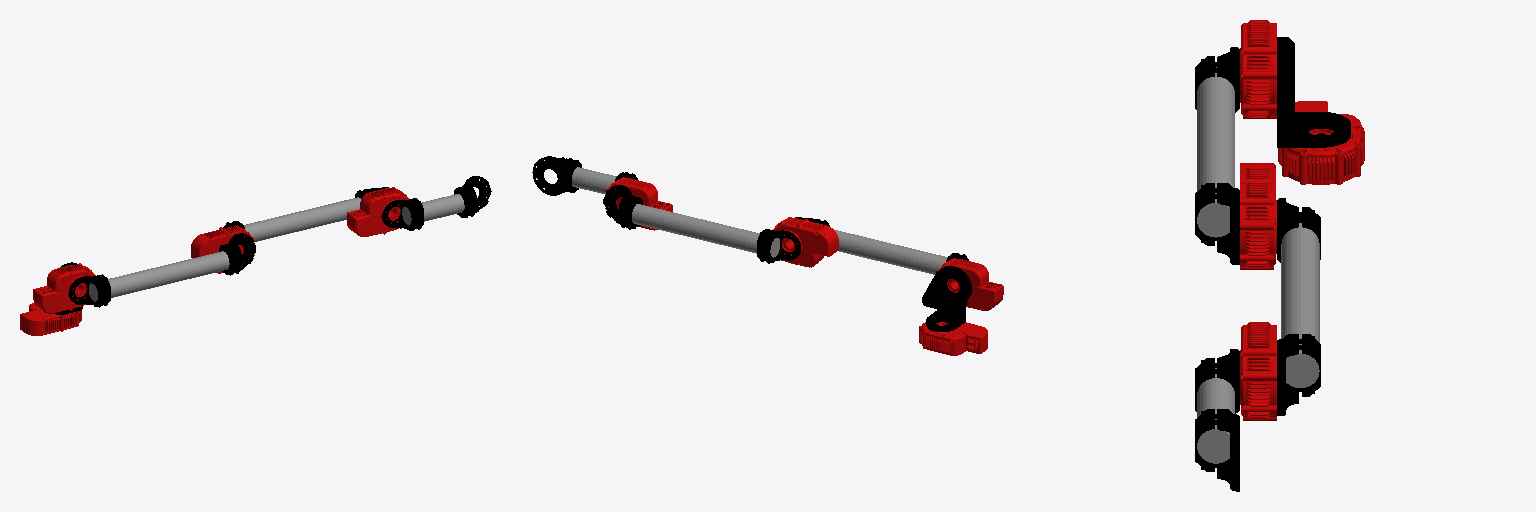
robot.urdf — 4_dof_arm:
<?xml version="1.0" ?>
<!-- =================================================================================== -->
<!-- |    This document was autogenerated by xacro from 4_dof_arm.xacro                | -->
<!-- |    EDITING THIS FILE BY HAND IS NOT RECOMMENDED                                 | -->
<!-- =================================================================================== -->
<robot name="4_dof_arm" xmlns:xacro="http://www.ros.org/wiki/xacro">
  <!-- *************************** XACRO MACROS *************************** -->
  <!-- ************************* ROBOT DEFINITION ************************* -->
  <!-- world link -->
  <link name="world"/>
  <joint name="world_joint" type="fixed">
    <origin rpy="0 0 0" xyz="0 0 0"/>
    <parent link="world"/>
    <child link="HEBI/joint1/INPUT_INTERFACE"/>
  </joint>
  <link name="HEBI/joint1/INPUT_INTERFACE">
    <visual>
      <origin rpy="0 0 0" xyz="0 0 0"/>
      <geometry>
        <mesh filename="package://hebiros_description/meshes/x5.stl" scale="0.001 0.001 0.001"/>
      </geometry>
      <material name="red">
        <color rgba=".82 0.06 0.06 1"/>
      </material>
    </visual>
    <collision>
      <origin rpy="0 0 0" xyz="0 0 0"/>
      <geometry>
        <mesh filename="package://hebiros_description/meshes/x5.stl" scale="0.001 0.001 0.001"/>
      </geometry>
    </collision>
    <inertial>
      <origin rpy="0 0 0" xyz="-0.0142 -0.0031 0.0165"/>
      <mass value="0.335"/>
      <inertia ixx="0.00015" ixy="0.0000341" ixz="0.0000118" iyy="0.000255" iyz="0.00000229" izz="0.000350"/>
    </inertial>
  </link>
  <joint name="HEBI/joint1/X5_4" type="continuous">
    <parent link="HEBI/joint1/INPUT_INTERFACE"/>
    <child link="joint1_joint2/INPUT_INTERFACE"/>
    <origin rpy="0 0 0" xyz="0 0 0.031"/>
    <axis xyz="0 0 1"/>
    <limit effort="7.0" velocity="32"/>
    <dynamics damping="0.1" friction="0.1"/>
  </joint>
  <gazebo reference="HEBI/joint1/INPUT_INTERFACE">
    <selfCollide>true</selfCollide>
    <gravity>true</gravity>
    <sensor name="HEBI/joint1/imu_sensor" type="imu">
      <always_on>true</always_on>
      <update_rate>100</update_rate>
      <visualize>true</visualize>
      <plugin filename="libgazebo_ros_imu_sensor.so" name="imu_plugin">
        <topicName>/hebiros_gazebo_plugin/imu/HEBI/joint1</topicName>
        <bodyName>HEBI/joint1/imu_link</bodyName>
        <updateRateHZ>10.0</updateRateHZ>
        <gaussianNoise>0.0</gaussianNoise>
        <xyzOffset>0.025 0 0.003</xyzOffset>
        <rpyOffset>0 0 0</rpyOffset>
        <frameName>HEBI/joint1/imu_link</frameName>
      </plugin>
      <pose>0 0 0 0 0 0</pose>
    </sensor>
    <material>Gazebo/BlueGlow</material>
  </gazebo>
  <link name="joint1_joint2/INPUT_INTERFACE">
    <visual>
      <origin rpy="1.57079632679 0 1.57079632679" xyz="0 0 0.005"/>
      <geometry>
        <mesh filename="package://hebiros_description/meshes/PM-2149-01.stl" scale="0.001 0.001 0.001"/>
      </geometry>
      <material name="black">
        <color rgba="0 0 0 1"/>
      </material>
    </visual>
    <visual>
      <origin rpy="1.57079632679 0 0" xyz="0 -.03 .04"/>
      <geometry>
        <mesh filename="package://hebiros_description/meshes/PM-2150-01R.stl" scale="0.001 0.001 0.001"/>
      </geometry>
      <material name="black">
        <color rgba="0 0 0 1"/>
      </material>
    </visual>
    <collision>
      <origin rpy="1.57079632679 0 1.57079632679" xyz="0 0 0.005"/>
      <geometry>
        <mesh filename="package://hebiros_description/meshes/PM-2149-01.stl" scale="0.001 0.001 0.001"/>
      </geometry>
    </collision>
    <collision>
      <origin rpy="1.57079632679 0 0" xyz="0 -.03 .04"/>
      <geometry>
        <mesh filename="package://hebiros_description/meshes/PM-2150-01R.stl" scale="0.001 0.001 0.001"/>
      </geometry>
    </collision>
    <!-- NOTE: inertia is just modelled as small sphere, and could be improved. -->
    <inertial>
      <origin rpy="0 0 0" xyz="0 -0.01875 .0275"/>
      <mass value="0.215"/>
      <inertia ixx="0.0003096" ixy="0.0" ixz="0.0" iyy="0.0003096" iyz="0.0" izz="0.0003096"/>
    </inertial>
  </link>
  <joint name="joint1_joint2/OUTPUT_INTERFACE" type="fixed">
    <parent link="joint1_joint2/INPUT_INTERFACE"/>
    <child link="HEBI/joint2/INPUT_INTERFACE"/>
    <origin rpy="1.57079632679 0 0" xyz="0 -.0375 .055"/>
  </joint>
  <gazebo reference="joint1_joint2/INPUT_INTERFACE">
    <selfCollide>true</selfCollide>
  </gazebo>
  <link name="HEBI/joint2/INPUT_INTERFACE">
    <visual>
      <origin rpy="0 0 0" xyz="0 0 0"/>
      <geometry>
        <mesh filename="package://hebiros_description/meshes/x5.stl" scale="0.001 0.001 0.001"/>
      </geometry>
      <material name="red">
        <color rgba=".82 0.06 0.06 1"/>
      </material>
    </visual>
    <collision>
      <origin rpy="0 0 0" xyz="0 0 0"/>
      <geometry>
        <mesh filename="package://hebiros_description/meshes/x5.stl" scale="0.001 0.001 0.001"/>
      </geometry>
    </collision>
    <inertial>
      <origin rpy="0 0 0" xyz="-0.0142 -0.0031 0.0165"/>
      <mass value="0.335"/>
      <inertia ixx="0.00015" ixy="0.0000341" ixz="0.0000118" iyy="0.000255" iyz="0.00000229" izz="0.000350"/>
    </inertial>
  </link>
  <joint name="HEBI/joint2/X5_4" type="continuous">
    <parent link="HEBI/joint2/INPUT_INTERFACE"/>
    <child link="joint2_joint3/INPUT_INTERFACE"/>
    <origin rpy="0 0 0" xyz="0 0 0.031"/>
    <axis xyz="0 0 1"/>
    <limit effort="7.0" velocity="32"/>
    <dynamics damping="0.1" friction="0.1"/>
  </joint>
  <gazebo reference="HEBI/joint2/INPUT_INTERFACE">
    <selfCollide>true</selfCollide>
    <gravity>true</gravity>
    <sensor name="HEBI/joint2/imu_sensor" type="imu">
      <always_on>true</always_on>
      <update_rate>100</update_rate>
      <visualize>true</visualize>
      <plugin filename="libgazebo_ros_imu_sensor.so" name="imu_plugin">
        <topicName>/hebiros_gazebo_plugin/imu/HEBI/joint2</topicName>
        <bodyName>HEBI/joint2/imu_link</bodyName>
        <updateRateHZ>10.0</updateRateHZ>
        <gaussianNoise>0.0</gaussianNoise>
        <xyzOffset>0.025 0 0.003</xyzOffset>
        <rpyOffset>0 0 0</rpyOffset>
        <frameName>HEBI/joint2/imu_link</frameName>
      </plugin>
      <pose>0 0 0 0 0 0</pose>
    </sensor>
    <material>Gazebo/BlueGlow</material>
  </gazebo>
  <link name="joint2_joint3/INPUT_INTERFACE">
    <visual>
      <origin rpy="0 0 0" xyz="0 0 0"/>
      <geometry>
        <mesh filename="package://hebiros_description/meshes/A-2038-02.stl"/>
      </geometry>
      <material name="black">
        <color rgba="0 0 0 1"/>
      </material>
    </visual>
    <visual>
      <origin rpy="0 1.57075 0" xyz="0.15 0 0.02"/>
      <geometry>
        <cylinder length="0.2746" radius=".016"/>
      </geometry>
      <material name="silver">
        <color rgba="0.6 0.6 0.6 1"/>
      </material>
    </visual>
    <visual>
      <origin rpy="-3.14159265359 0 0" xyz="0.3 -2.44929359829e-18 0.0"/>
      <geometry>
        <mesh filename="package://hebiros_description/meshes/A-2039-02.stl"/>
      </geometry>
      <material name="black">
        <color rgba="0 0 0 1"/>
      </material>
    </visual>
    <collision>
      <origin rpy="0 0 0" xyz="0 0 0"/>
      <geometry>
        <mesh filename="package://hebiros_description/meshes/A-2038-02.stl"/>
      </geometry>
    </collision>
    <collision>
      <origin rpy="0 1.57075 0" xyz="0.15 0 0.02"/>
      <geometry>
        <cylinder length="0.2746" radius=".016"/>
      </geometry>
    </collision>
    <collision>
      <origin rpy="-3.14159265359 0 0" xyz="0.3 -2.44929359829e-18 0.0"/>
      <geometry>
        <mesh filename="package://hebiros_description/meshes/A-2039-02.stl"/>
      </geometry>
    </collision>
    <!-- Approximate inertia as thin rod about x axis -->
    <inertial>
      <origin rpy="0 0 0" xyz="0.15 0 0.02"/>
      <mass value="0.392"/>
      <inertia ixx="0.0" ixy="0.0" ixz="0.0" iyy="0.00294" iyz="0.0" izz="0.00294"/>
    </inertial>
  </link>
  <joint name="joint2_joint3/OUTPUT_JOINT" type="fixed">
    <parent link="joint2_joint3/INPUT_INTERFACE"/>
    <child link="HEBI/joint3/INPUT_INTERFACE"/>
    <origin rpy="3.14159265359 0 0" xyz="0.3 -2.44929359829e-18 0.0"/>
  </joint>
  <gazebo reference="joint2_joint3/INPUT_INTERFACE">
    <selfCollide>true</selfCollide>
    <material>Gazebo/FlatBlack</material>
  </gazebo>
  <link name="HEBI/joint3/INPUT_INTERFACE">
    <visual>
      <origin rpy="0 0 0" xyz="0 0 0"/>
      <geometry>
        <mesh filename="package://hebiros_description/meshes/x5.stl" scale="0.001 0.001 0.001"/>
      </geometry>
      <material name="red">
        <color rgba=".82 0.06 0.06 1"/>
      </material>
    </visual>
    <collision>
      <origin rpy="0 0 0" xyz="0 0 0"/>
      <geometry>
        <mesh filename="package://hebiros_description/meshes/x5.stl" scale="0.001 0.001 0.001"/>
      </geometry>
    </collision>
    <inertial>
      <origin rpy="0 0 0" xyz="-0.0142 -0.0031 0.0165"/>
      <mass value="0.335"/>
      <inertia ixx="0.00015" ixy="0.0000341" ixz="0.0000118" iyy="0.000255" iyz="0.00000229" izz="0.000350"/>
    </inertial>
  </link>
  <joint name="HEBI/joint3/X5_4" type="continuous">
    <parent link="HEBI/joint3/INPUT_INTERFACE"/>
    <child link="joint3_joint4/INPUT_INTERFACE"/>
    <origin rpy="0 0 0" xyz="0 0 0.031"/>
    <axis xyz="0 0 1"/>
    <limit effort="7.0" velocity="32"/>
    <dynamics damping="0.1" friction="0.1"/>
  </joint>
  <gazebo reference="HEBI/joint3/INPUT_INTERFACE">
    <selfCollide>true</selfCollide>
    <gravity>true</gravity>
    <sensor name="HEBI/joint3/imu_sensor" type="imu">
      <always_on>true</always_on>
      <update_rate>100</update_rate>
      <visualize>true</visualize>
      <plugin filename="libgazebo_ros_imu_sensor.so" name="imu_plugin">
        <topicName>/hebiros_gazebo_plugin/imu/HEBI/joint3</topicName>
        <bodyName>HEBI/joint3/imu_link</bodyName>
        <updateRateHZ>10.0</updateRateHZ>
        <gaussianNoise>0.0</gaussianNoise>
        <xyzOffset>0.025 0 0.003</xyzOffset>
        <rpyOffset>0 0 0</rpyOffset>
        <frameName>HEBI/joint3/imu_link</frameName>
      </plugin>
      <pose>0 0 0 0 0 0</pose>
    </sensor>
    <material>Gazebo/BlueGlow</material>
  </gazebo>
  <link name="joint3_joint4/INPUT_INTERFACE">
    <visual>
      <origin rpy="0 0 0" xyz="0 0 0"/>
      <geometry>
        <mesh filename="package://hebiros_description/meshes/A-2038-02.stl"/>
      </geometry>
      <material name="black">
        <color rgba="0 0 0 1"/>
      </material>
    </visual>
    <visual>
      <origin rpy="0 1.57075 0" xyz="0.15 0 0.02"/>
      <geometry>
        <cylinder length="0.2746" radius=".016"/>
      </geometry>
      <material name="silver">
        <color rgba="0.6 0.6 0.6 1"/>
      </material>
    </visual>
    <visual>
      <origin rpy="-3.14159265359 0 0" xyz="0.3 -2.44929359829e-18 0.0"/>
      <geometry>
        <mesh filename="package://hebiros_description/meshes/A-2039-02.stl"/>
      </geometry>
      <material name="black">
        <color rgba="0 0 0 1"/>
      </material>
    </visual>
    <collision>
      <origin rpy="0 0 0" xyz="0 0 0"/>
      <geometry>
        <mesh filename="package://hebiros_description/meshes/A-2038-02.stl"/>
      </geometry>
    </collision>
    <collision>
      <origin rpy="0 1.57075 0" xyz="0.15 0 0.02"/>
      <geometry>
        <cylinder length="0.2746" radius=".016"/>
      </geometry>
    </collision>
    <collision>
      <origin rpy="-3.14159265359 0 0" xyz="0.3 -2.44929359829e-18 0.0"/>
      <geometry>
        <mesh filename="package://hebiros_description/meshes/A-2039-02.stl"/>
      </geometry>
    </collision>
    <!-- Approximate inertia as thin rod about x axis -->
    <inertial>
      <origin rpy="0 0 0" xyz="0.15 0 0.02"/>
      <mass value="0.392"/>
      <inertia ixx="0.0" ixy="0.0" ixz="0.0" iyy="0.00294" iyz="0.0" izz="0.00294"/>
    </inertial>
  </link>
  <joint name="joint3_joint4/OUTPUT_JOINT" type="fixed">
    <parent link="joint3_joint4/INPUT_INTERFACE"/>
    <child link="HEBI/joint4/INPUT_INTERFACE"/>
    <origin rpy="3.14159265359 0 0" xyz="0.3 -2.44929359829e-18 0.0"/>
  </joint>
  <gazebo reference="joint3_joint4/INPUT_INTERFACE">
    <selfCollide>true</selfCollide>
    <material>Gazebo/FlatBlack</material>
  </gazebo>
  <link name="HEBI/joint4/INPUT_INTERFACE">
    <visual>
      <origin rpy="0 0 0" xyz="0 0 0"/>
      <geometry>
        <mesh filename="package://hebiros_description/meshes/x5.stl" scale="0.001 0.001 0.001"/>
      </geometry>
      <material name="red">
        <color rgba=".82 0.06 0.06 1"/>
      </material>
    </visual>
    <collision>
      <origin rpy="0 0 0" xyz="0 0 0"/>
      <geometry>
        <mesh filename="package://hebiros_description/meshes/x5.stl" scale="0.001 0.001 0.001"/>
      </geometry>
    </collision>
    <inertial>
      <origin rpy="0 0 0" xyz="-0.0142 -0.0031 0.0165"/>
      <mass value="0.335"/>
      <inertia ixx="0.00015" ixy="0.0000341" ixz="0.0000118" iyy="0.000255" iyz="0.00000229" izz="0.000350"/>
    </inertial>
  </link>
  <joint name="HEBI/joint4/X5_4" type="continuous">
    <parent link="HEBI/joint4/INPUT_INTERFACE"/>
    <child link="joint4_end/INPUT_INTERFACE"/>
    <origin rpy="0 0 0" xyz="0 0 0.031"/>
    <axis xyz="0 0 1"/>
    <limit effort="7.0" velocity="32"/>
    <dynamics damping="0.1" friction="0.1"/>
  </joint>
  <gazebo reference="HEBI/joint4/INPUT_INTERFACE">
    <selfCollide>true</selfCollide>
    <gravity>true</gravity>
    <sensor name="HEBI/joint4/imu_sensor" type="imu">
      <always_on>true</always_on>
      <update_rate>100</update_rate>
      <visualize>true</visualize>
      <plugin filename="libgazebo_ros_imu_sensor.so" name="imu_plugin">
        <topicName>/hebiros_gazebo_plugin/imu/HEBI/joint4</topicName>
        <bodyName>HEBI/joint4/imu_link</bodyName>
        <updateRateHZ>10.0</updateRateHZ>
        <gaussianNoise>0.0</gaussianNoise>
        <xyzOffset>0.025 0 0.003</xyzOffset>
        <rpyOffset>0 0 0</rpyOffset>
        <frameName>HEBI/joint4/imu_link</frameName>
      </plugin>
      <pose>0 0 0 0 0 0</pose>
    </sensor>
    <material>Gazebo/BlueGlow</material>
  </gazebo>
  <link name="joint4_end/INPUT_INTERFACE">
    <visual>
      <origin rpy="0 0 0" xyz="0 0 0"/>
      <geometry>
        <mesh filename="package://hebiros_description/meshes/A-2038-02.stl"/>
      </geometry>
      <material name="black">
        <color rgba="0 0 0 1"/>
      </material>
    </visual>
    <visual>
      <origin rpy="0 1.57075 0" xyz="0.075 0 0.02"/>
      <geometry>
        <cylinder length="0.1246" radius=".016"/>
      </geometry>
      <material name="silver">
        <color rgba="0.6 0.6 0.6 1"/>
      </material>
    </visual>
    <visual>
      <origin rpy="-3.14159265359 0 0" xyz="0.15 -2.44929359829e-18 0.0"/>
      <geometry>
        <mesh filename="package://hebiros_description/meshes/A-2039-02.stl"/>
      </geometry>
      <material name="black">
        <color rgba="0 0 0 1"/>
      </material>
    </visual>
    <collision>
      <origin rpy="0 0 0" xyz="0 0 0"/>
      <geometry>
        <mesh filename="package://hebiros_description/meshes/A-2038-02.stl"/>
      </geometry>
    </collision>
    <collision>
      <origin rpy="0 1.57075 0" xyz="0.075 0 0.02"/>
      <geometry>
        <cylinder length="0.1246" radius=".016"/>
      </geometry>
    </collision>
    <collision>
      <origin rpy="-3.14159265359 0 0" xyz="0.15 -2.44929359829e-18 0.0"/>
      <geometry>
        <mesh filename="package://hebiros_description/meshes/A-2039-02.stl"/>
      </geometry>
    </collision>
    <!-- Approximate inertia as thin rod about x axis -->
    <inertial>
      <origin rpy="0 0 0" xyz="0.075 0 0.02"/>
      <mass value="0.332"/>
      <inertia ixx="0.0" ixy="0.0" ixz="0.0" iyy="0.0006225" iyz="0.0" izz="0.0006225"/>
    </inertial>
  </link>
  <joint name="joint4_end/OUTPUT_JOINT" type="fixed">
    <parent link="joint4_end/INPUT_INTERFACE"/>
    <child link="end_effector/INPUT_INTERFACE"/>
    <origin rpy="3.14159265359 0 0" xyz="0.15 -2.44929359829e-18 0.0"/>
  </joint>
  <gazebo reference="joint4_end/INPUT_INTERFACE">
    <selfCollide>true</selfCollide>
    <material>Gazebo/FlatBlack</material>
  </gazebo>
  <!-- end link -->
  <link name="end_effector/INPUT_INTERFACE">
  </link>
  <gazebo>
    <plugin filename="libhebiros_gazebo_plugin.so" name="hebiros_gazebo_plugin">
    </plugin>
  </gazebo>
</robot>

--- Render facts (derived) ---
3 views of the same robot in one strip: view 1: azimuth 30°, elevation 25°; view 2: azimuth 150°, elevation 25°; view 3: azimuth 270°, elevation 25° (orthographic).
Robot: 4_dof_arm — 10 links, 9 joints (4 continuous, 5 fixed); root link world; default pose: every joint at zero.
Links seen in each view (by area): view 1: joint2_joint3/INPUT_INTERFACE, joint4_end/INPUT_INTERFACE, joint3_joint4/INPUT_INTERFACE, HEBI/joint2/INPUT_INTERFACE, HEBI/joint4/INPUT_INTERFACE, HEBI/joint1/INPUT_INTERFACE, HEBI/joint3/INPUT_INTERFACE; view 2: joint3_joint4/INPUT_INTERFACE, joint2_joint3/INPUT_INTERFACE, joint1_joint2/INPUT_INTERFACE, joint4_end/INPUT_INTERFACE, HEBI/joint3/INPUT_INTERFACE, HEBI/joint1/INPUT_INTERFACE, HEBI/joint2/INPUT_INTERFACE, HEBI/joint4/INPUT_INTERFACE; view 3: joint2_joint3/INPUT_INTERFACE, joint3_joint4/INPUT_INTERFACE, joint4_end/INPUT_INTERFACE, HEBI/joint3/INPUT_INTERFACE, HEBI/joint1/INPUT_INTERFACE, joint1_joint2/INPUT_INTERFACE, HEBI/joint4/INPUT_INTERFACE, HEBI/joint2/INPUT_INTERFACE.
Boxes of the visible links, box(x1,y1,x2,y2) form: joint2_joint3/INPUT_INTERFACE: box(69, 233, 255, 307); joint4_end/INPUT_INTERFACE: box(382, 176, 491, 230); joint3_joint4/INPUT_INTERFACE: box(223, 187, 388, 241); HEBI/joint2/INPUT_INTERFACE: box(33, 263, 95, 313); HEBI/joint4/INPUT_INTERFACE: box(347, 187, 408, 236); HEBI/joint1/INPUT_INTERFACE: box(20, 303, 81, 335); HEBI/joint3/INPUT_INTERFACE: box(191, 225, 254, 273); joint3_joint4/INPUT_INTERFACE: box(603, 185, 800, 263); joint2_joint3/INPUT_INTERFACE: box(795, 217, 968, 274); joint1_joint2/INPUT_INTERFACE: box(922, 266, 971, 331); joint4_end/INPUT_INTERFACE: box(532, 156, 637, 195); HEBI/joint3/INPUT_INTERFACE: box(773, 217, 838, 267); HEBI/joint1/INPUT_INTERFACE: box(919, 322, 987, 355); HEBI/joint2/INPUT_INTERFACE: box(936, 258, 1003, 310); HEBI/joint4/INPUT_INTERFACE: box(605, 177, 672, 230); joint2_joint3/INPUT_INTERFACE: box(1195, 47, 1239, 264); joint3_joint4/INPUT_INTERFACE: box(1277, 198, 1320, 415); joint4_end/INPUT_INTERFACE: box(1195, 349, 1239, 491); HEBI/joint3/INPUT_INTERFACE: box(1240, 163, 1276, 269); HEBI/joint1/INPUT_INTERFACE: box(1278, 101, 1364, 184); joint1_joint2/INPUT_INTERFACE: box(1277, 37, 1350, 147); HEBI/joint4/INPUT_INTERFACE: box(1240, 322, 1276, 420); HEBI/joint2/INPUT_INTERFACE: box(1240, 20, 1276, 118).
Size in the robot's own frame: 0.8556 by 0.1425 by 0.1225 metres.
Meshes: 5 distinct files referenced, 12 mesh visuals loaded (5 binary STL).